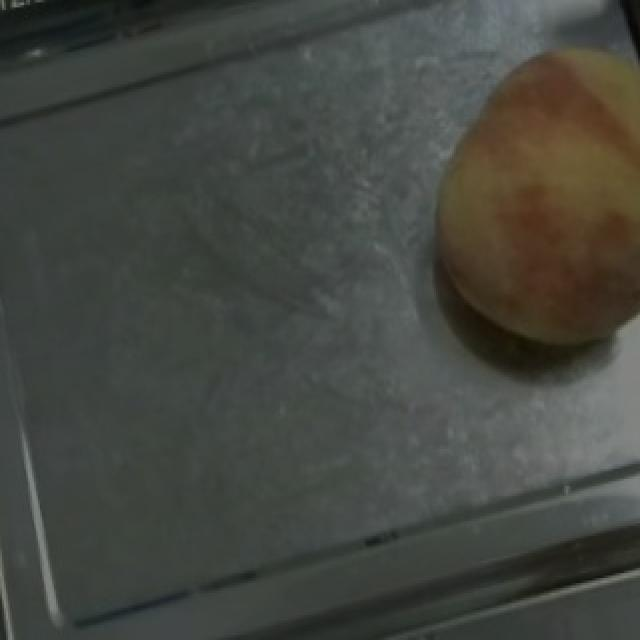Fruit: (390, 17, 640, 392)
